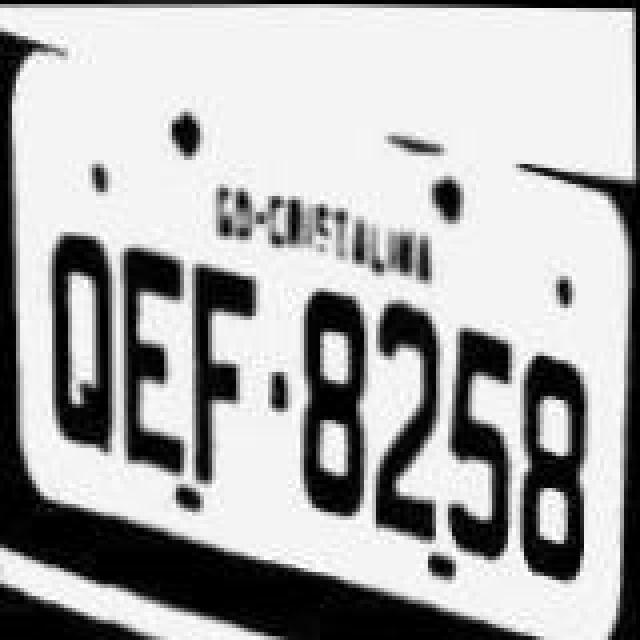2: (368, 296, 448, 540)
5: (450, 326, 518, 562)
8: (518, 352, 594, 580), (302, 288, 370, 520)
E: (116, 248, 192, 472)
F: (190, 262, 262, 482)
Q: (44, 234, 120, 462)
